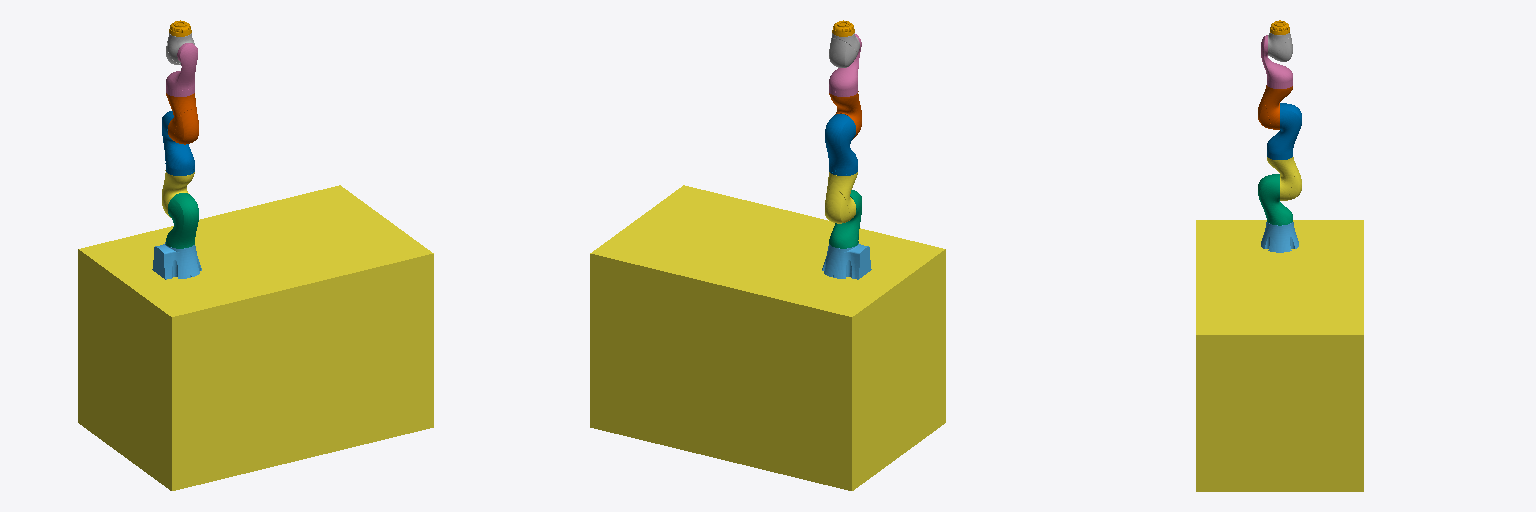
The robot description file, URDF, robot "iiwa7":
<robot name="iiwa7">
<link name="world">
    <inertial>
        <origin rpy="0.0 0.0 0.0" xyz="0.0 0.0 0.0"/>
        <mass value="0.0"/>
        <inertia ixx="0.0" ixy="0.0" ixz="0.0" iyy="0.0" iyz="0.0" izz="0.0"/>
    </inertial>
</link>
<link name="iiwa_link_0">
    <inertial>
        <origin rpy="0.0 0.0 0.0" xyz="-0.1 0.0 0.07"/>
        <mass value="5.0"/>
        <inertia ixx="0.05" ixy="0.0" ixz="0.0" iyy="0.06" iyz="0.0" izz="0.03"/>
    </inertial>
    <visual>
        <origin rpy="0.0 0.0 0.0" xyz="0.0 0.0 0.0"/>
        <geometry>
            <mesh filename="package://iiwa_description/meshes/iiwa7/visual/link_0.obj"/>
        </geometry>
        <material name="Grey">
        </material>
    </visual>
    <collision>
        <origin rpy="0.0 0.0 0.0" xyz="0.0 0.0 0.0"/>
        <geometry>
            <mesh filename="package://iiwa_description/meshes/iiwa7/collision/link_0_vhacd.obj"/>
        </geometry>
        <material name="Grey">
        </material>
    </collision>
    <self_collision_checking>
        <origin rpy="0.0 0.0 0.0" xyz="0.0 0.0 0.0"/>
        <geometry>
            <capsule length="0.25" radius="0.15"/>
        </geometry>
    </self_collision_checking>
</link>
<link name="iiwa_link_1">
    <inertial>
        <origin rpy="0.0 0.0 0.0" xyz="0.0 -0.03 0.12"/>
        <mass value="3.4525"/>
        <inertia ixx="0.02183" ixy="0.0" ixz="0.0" iyy="0.007703" iyz="-0.003887" izz="0.02083"/>
    </inertial>
    <visual>
        <origin rpy="0.0 0.0 0.0" xyz="0.0 0.0 0.0075"/>
        <geometry>
            <mesh filename="package://iiwa_description/meshes/iiwa7/visual/link_1.obj"/>
        </geometry>
        <material name="Orange">
        </material>
    </visual>
    <collision>
        <origin rpy="0.0 0.0 0.0" xyz="0.0 0.0 0.0075"/>
        <geometry>
            <mesh filename="package://iiwa_description/meshes/iiwa7/collision/link_1_vhacd.obj"/>
        </geometry>
        <material name="Orange">
        </material>
    </collision>
</link>
<link name="iiwa_link_2">
    <inertial>
        <origin rpy="0.0 0.0 0.0" xyz="0.0003 0.059 0.042"/>
        <mass value="3.4821"/>
        <inertia ixx="0.02076" ixy="0.0" ixz="-0.003626" iyy="0.02179" iyz="0.0" izz="0.00779"/>
    </inertial>
    <visual>
        <origin rpy="0.0 0.0 0.0" xyz="0.0 0.0 0.0"/>
        <geometry>
            <mesh filename="package://iiwa_description/meshes/iiwa7/visual/link_2.obj"/>
        </geometry>
        <material name="Orange">
        </material>
    </visual>
    <collision>
        <origin rpy="0.0 0.0 0.0" xyz="0.0 0.0 0.0"/>
        <geometry>
            <mesh filename="package://iiwa_description/meshes/iiwa7/collision/link_2_vhacd.obj"/>
        </geometry>
        <material name="Orange">
        </material>
    </collision>
</link>
<link name="iiwa_link_3">
    <inertial>
        <origin rpy="0.0 0.0 0.0" xyz="0.0 0.03 0.13"/>
        <mass value="4.05623"/>
        <inertia ixx="0.03204" ixy="0.0" ixz="0.0" iyy="0.00972" iyz="0.006227" izz="0.03042"/>
    </inertial>
    <visual>
        <origin rpy="0.0 0.0 0.0" xyz="0.0 0.0 -0.026"/>
        <geometry>
            <mesh filename="package://iiwa_description/meshes/iiwa7/visual/link_3.obj"/>
        </geometry>
        <material name="Orange">
        </material>
    </visual>
    <collision>
        <origin rpy="0.0 0.0 0.0" xyz="0.0 0.0 -0.026"/>
        <geometry>
            <mesh filename="package://iiwa_description/meshes/iiwa7/collision/link_3_vhacd.obj"/>
        </geometry>
        <material name="Orange">
        </material>
    </collision>
</link>
<link name="iiwa_link_4">
    <inertial>
        <origin rpy="0.0 0.0 0.0" xyz="0.0 0.067 0.034"/>
        <mass value="3.4822"/>
        <inertia ixx="0.02178" ixy="0.0" ixz="0.0" iyy="0.02075" iyz="-0.003625" izz="0.007785"/>
    </inertial>
    <visual>
        <origin rpy="0.0 0.0 0.0" xyz="0.0 0.0 0.0"/>
        <geometry>
            <mesh filename="package://iiwa_description/meshes/iiwa7/visual/link_4.obj"/>
        </geometry>
        <material name="Orange">
        </material>
    </visual>
    <collision>
        <origin rpy="0.0 0.0 0.0" xyz="0.0 0.0 0.0"/>
        <geometry>
            <mesh filename="package://iiwa_description/meshes/iiwa7/collision/link_4_vhacd.obj"/>
        </geometry>
        <material name="Orange">
        </material>
    </collision>
</link>
<link name="iiwa_link_5">
    <inertial>
        <origin rpy="0.0 0.0 0.0" xyz="0.0001 0.021 0.076"/>
        <mass value="2.1633"/>
        <inertia ixx="0.01287" ixy="0.0" ixz="0.0" iyy="0.005708" iyz="-0.003946" izz="0.01112"/>
    </inertial>
    <visual>
        <origin rpy="0.0 0.0 0.0" xyz="0.0 0.0 -0.026"/>
        <geometry>
            <mesh filename="package://iiwa_description/meshes/iiwa7/visual/link_5.obj"/>
        </geometry>
        <material name="Orange">
        </material>
    </visual>
    <collision>
        <origin rpy="0.0 0.0 0.0" xyz="0.0 0.0 -0.026"/>
        <geometry>
            <mesh filename="package://iiwa_description/meshes/iiwa7/collision/link_5_vhacd.obj"/>
        </geometry>
        <material name="Orange">
        </material>
    </collision>
</link>
<link name="iiwa_link_6">
    <inertial>
        <origin rpy="0.0 0.0 0.0" xyz="0.0 0.0006 0.0004"/>
        <mass value="2.3466"/>
        <inertia ixx="0.006509" ixy="0.0" ixz="0.0" iyy="0.006259" iyz="0.00031891" izz="0.004527"/>
    </inertial>
    <visual>
        <origin rpy="0.0 0.0 0.0" xyz="0.0 0.0 0.0"/>
        <geometry>
            <mesh filename="package://iiwa_description/meshes/iiwa7/visual/link_6.obj"/>
        </geometry>
        <material name="Orange">
        </material>
    </visual>
    <collision>
        <origin rpy="0.0 0.0 0.0" xyz="0.0 0.0 0.0"/>
        <geometry>
            <mesh filename="package://iiwa_description/meshes/iiwa7/collision/link_6_vhacd.obj"/>
        </geometry>
        <material name="Orange">
        </material>
    </collision>
</link>
<link name="iiwa_link_7">
    <inertial>
        <origin rpy="0.0 0.0 0.0" xyz="0.0 0.0 0.02"/>
        <mass value="3.129"/>
        <inertia ixx="0.01464" ixy="0.0005912" ixz="0.0" iyy="0.01465" iyz="0.0" izz="0.002872"/>
    </inertial>
    <visual>
        <origin rpy="0.0 0.0 0.0" xyz="0.0 0.0 -0.0005"/>
        <geometry>
            <mesh filename="package://iiwa_description/meshes/iiwa7/visual/link_7.obj"/>
        </geometry>
        <material name="Grey">
        </material>
    </visual>
    <collision>
        <origin rpy="0.0 0.0 0.0" xyz="0.0 0.0 -0.0005"/>
        <geometry>
            <mesh filename="package://iiwa_description/meshes/iiwa7/collision/link_7_vhacd.obj"/>
        </geometry>
        <material name="Grey">
        </material>
    </collision>
</link>
<link name="iiwa_link_ee">
    <inertial>
        <origin rpy="0.0 0.0 0.0" xyz="0.0 0.0 0.0"/>
        <mass value="0.0"/>
        <inertia ixx="0.0" ixy="0.0" ixz="0.0" iyy="0.0" iyz="0.0" izz="0.0"/>
    </inertial>
</link>
<link name="hand_base_link">
    <inertial>
        <origin rpy="0.0 0.0 0.0" xyz="0.0 0.0 0.0"/>
        <mass value="0.0"/>
        <inertia ixx="0.0" ixy="0.0" ixz="0.0" iyy="0.0" iyz="0.0" izz="0.0"/>
    </inertial>
</link>
<link name="table1">
    <inertial>
        <mass value="10.0"/>
        <inertia ixx="1.25" ixy="0.0" ixz="0.0" iyy="2.24" iyz="0.0" izz="2.2"/>
    </inertial>
    <visual>
        <geometry>
            <mesh filename="package://bullet_ros_kuka/meshes/visual/table1.obj"/>
        </geometry>
        <material name="Orange">
        </material>
        <origin rpy="0.0 0.0 0.0" xyz="0.0 0.0 -0.44"/>
    </visual>
    <collision>
        <geometry>
            <mesh filename="package://bullet_ros_kuka/meshes/collision/table1_vhacd.obj"/>
        </geometry>
        <material name="Red">
        </material>
        <origin rpy="0.0 0.0 0.0" xyz="0.0 0.0 -0.44"/>
    </collision>
</link>
<link name="table1_mount">
    <inertial>
        <origin rpy="0.0 0.0 0.0" xyz="0.0 0.0 0.0"/>
        <mass value="0.0"/>
        <inertia ixx="0.0" ixy="0.0" ixz="0.0" iyy="0.0" iyz="0.0" izz="0.0"/>
    </inertial>
</link>
<joint name="world_iiwa_joint" type="fixed">
    <origin rpy="0.0 0.0 0.0" xyz="0.0 0.0 0.0"/>
    <parent link="world"/>
    <child link="iiwa_link_0"/>
</joint>
<joint name="iiwa_joint_1" type="revolute">
    <origin rpy="0.0 0.0 0.0" xyz="0.0 0.0 0.15"/>
    <axis xyz="0.0 0.0 1.0"/>
    <limit effort="300.0" lower="-2.9670597283903604" upper="2.9670597283903604" velocity="10.0"/>
    <safety_controller k_position="100.0" k_velocity="2.0" soft_lower_limit="-2.9321531433504737" soft_upper_limit="2.9321531433504737"/>
    <dynamics damping="0.5"/>
    <parent link="iiwa_link_0"/>
    <child link="iiwa_link_1"/>
</joint>
<joint name="iiwa_joint_2" type="revolute">
    <origin rpy="1.5707963267948966 0.0 3.141592653589793" xyz="0.0 0.0 0.19"/>
    <axis xyz="0.0 0.0 1.0"/>
    <limit effort="300.0" lower="-2.0943951023931953" upper="2.0943951023931953" velocity="10.0"/>
    <safety_controller k_position="100.0" k_velocity="2.0" soft_lower_limit="-2.0594885173533086" soft_upper_limit="2.0594885173533086"/>
    <dynamics damping="0.5"/>
    <parent link="iiwa_link_1"/>
    <child link="iiwa_link_2"/>
</joint>
<joint name="iiwa_joint_3" type="revolute">
    <origin rpy="1.5707963267948966 0.0 3.141592653589793" xyz="0.0 0.21 0.0"/>
    <axis xyz="0.0 0.0 1.0"/>
    <limit effort="300.0" lower="-2.9670597283903604" upper="2.9670597283903604" velocity="10.0"/>
    <safety_controller k_position="100.0" k_velocity="2.0" soft_lower_limit="-2.9321531433504737" soft_upper_limit="2.9321531433504737"/>
    <dynamics damping="0.5"/>
    <parent link="iiwa_link_2"/>
    <child link="iiwa_link_3"/>
</joint>
<joint name="iiwa_joint_4" type="revolute">
    <origin rpy="1.5707963267948966 0.0 0.0" xyz="0.0 0.0 0.19"/>
    <axis xyz="0.0 0.0 1.0"/>
    <limit effort="300.0" lower="-2.0943951023931953" upper="2.0943951023931953" velocity="10.0"/>
    <safety_controller k_position="100.0" k_velocity="2.0" soft_lower_limit="-2.0594885173533086" soft_upper_limit="2.0594885173533086"/>
    <dynamics damping="0.5"/>
    <parent link="iiwa_link_3"/>
    <child link="iiwa_link_4"/>
</joint>
<joint name="iiwa_joint_5" type="revolute">
    <origin rpy="-1.5707963267948966 3.141592653589793 0.0" xyz="0.0 0.21 0.0"/>
    <axis xyz="0.0 0.0 1.0"/>
    <limit effort="300.0" lower="-2.9670597283903604" upper="2.9670597283903604" velocity="10.0"/>
    <safety_controller k_position="100.0" k_velocity="2.0" soft_lower_limit="-2.9321531433504737" soft_upper_limit="2.9321531433504737"/>
    <dynamics damping="0.5"/>
    <parent link="iiwa_link_4"/>
    <child link="iiwa_link_5"/>
</joint>
<joint name="iiwa_joint_6" type="revolute">
    <origin rpy="1.5707963267948966 0.0 0.0" xyz="0.0 0.0607 0.19"/>
    <axis xyz="0.0 0.0 1.0"/>
    <limit effort="300.0" lower="-2.0943951023931953" upper="2.0943951023931953" velocity="10.0"/>
    <safety_controller k_position="100.0" k_velocity="2.0" soft_lower_limit="-2.0594885173533086" soft_upper_limit="2.0594885173533086"/>
    <dynamics damping="0.5"/>
    <parent link="iiwa_link_5"/>
    <child link="iiwa_link_6"/>
</joint>
<joint name="iiwa_joint_7" type="revolute">
    <origin rpy="-1.5707963267948966 3.141592653589793 0.0" xyz="0.0 0.081 0.0607"/>
    <axis xyz="0.0 0.0 1.0"/>
    <limit effort="300.0" lower="-3.0543261909900763" upper="3.0543261909900763" velocity="10.0"/>
    <safety_controller k_position="100.0" k_velocity="2.0" soft_lower_limit="-3.01941960595019" soft_upper_limit="3.01941960595019"/>
    <dynamics damping="0.5"/>
    <parent link="iiwa_link_6"/>
    <child link="iiwa_link_7"/>
</joint>
<joint name="iiwa_joint_ee" type="fixed">
    <origin rpy="0.0 0.0 0.0" xyz="0.0 0.0 0.045"/>
    <parent link="iiwa_link_7"/>
    <child link="iiwa_link_ee"/>
</joint>
<joint name="hand_joint" type="fixed">
    <origin rpy="0.0 0.0 1.57" xyz="0.0 0.0 0.0"/>
    <parent link="iiwa_link_ee"/>
    <child link="hand_base_link"/>
</joint>
<joint name="table1_joint" type="fixed">
    <origin rpy="0.0 0.0 0.0" xyz="0.4 0.0 0.02"/>
    <parent link="world"/>
    <child link="table1"/>
</joint>
<joint name="table1_mount_joint" type="fixed">
    <origin rpy="0.0 0.0 0.0" xyz="-0.4625 0.0 0.0"/>
    <parent link="table1"/>
    <child link="table1_mount"/>
</joint>
</robot>

--- Facts derived from the render (not from the file) ---
3 views of the same robot in one strip: view 1: azimuth 30°, elevation 25°; view 2: azimuth 150°, elevation 25°; view 3: azimuth 270°, elevation 25° (orthographic).
Robot: iiwa7 — 13 links, 12 joints (7 revolute, 5 fixed); root link world; default pose: every joint at zero.
Links seen in each view (by area): view 1: table1, iiwa_link_1, iiwa_link_0, iiwa_link_4, iiwa_link_5, iiwa_link_3, iiwa_link_2; view 2: table1, iiwa_link_3, iiwa_link_0, iiwa_link_2, iiwa_link_1, iiwa_link_5, iiwa_link_6, iiwa_link_4; view 3: table1, iiwa_link_3, iiwa_link_1, iiwa_link_0, iiwa_link_4, iiwa_link_2, iiwa_link_5, iiwa_link_6.
Boxes of the visible links, x1,y1,x2,y2 form: table1: (78,185,433,490); iiwa_link_1: (166,193,198,248); iiwa_link_0: (152,242,201,279); iiwa_link_4: (166,93,198,144); iiwa_link_5: (166,43,197,96); iiwa_link_3: (162,111,194,175); iiwa_link_2: (162,170,194,217); table1: (590,185,945,490); iiwa_link_3: (825,114,857,175); iiwa_link_0: (822,243,871,279); iiwa_link_2: (825,172,857,223); iiwa_link_1: (829,190,861,248); iiwa_link_5: (829,34,861,96); iiwa_link_6: (829,33,859,67); iiwa_link_4: (829,91,861,138); table1: (1196,220,1363,491); iiwa_link_3: (1267,103,1301,159); iiwa_link_1: (1258,174,1292,225); iiwa_link_0: (1261,222,1298,252); iiwa_link_4: (1258,85,1292,129); iiwa_link_2: (1267,157,1301,200); iiwa_link_5: (1261,35,1292,88); iiwa_link_6: (1268,33,1292,61).
Size in the robot's own frame: 1.39 by 0.855 by 2.13 metres.
Meshes: 9 distinct files referenced, 9 mesh visuals loaded (9 OBJ).